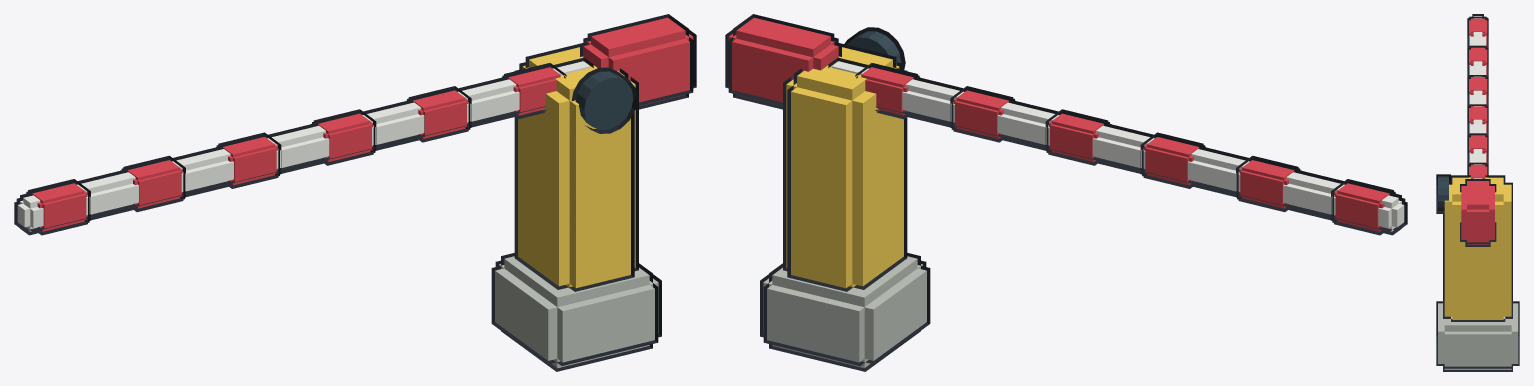
The model's file is CrossingGate_Right.fbx.
The picture shows the model from 3 angles, left to right: view 1: azimuth 30°, elevation 25°; view 2: azimuth 150°, elevation 25°; view 3: azimuth 270°, elevation 25°; orthographic projection. The views are drawn at different scales.
Parts seen in each view (by area): view 1: CrossingGate_Right_MotorBase, GateArm_Right_Visual, NPR_Outline_GateArm_Right_Visual, NPR_Outline_CrossingGate_Right_MotorBase; view 2: CrossingGate_Right_MotorBase, GateArm_Right_Visual, NPR_Outline_GateArm_Right_Visual, NPR_Outline_CrossingGate_Right_MotorBase; view 3: CrossingGate_Right_MotorBase, GateArm_Right_Visual, NPR_Outline_CrossingGate_Right_MotorBase, NPR_Outline_GateArm_Right_Visual.
Part boxes in pixels (x1,y1,x2,y2): CrossingGate_Right_MotorBase: (495,47,658,368); GateArm_Right_Visual: (17,17,693,231); NPR_Outline_GateArm_Right_Visual: (14,14,696,235); NPR_Outline_CrossingGate_Right_MotorBase: (491,43,661,371); CrossingGate_Right_MotorBase: (763,31,926,368); GateArm_Right_Visual: (728,17,1404,231); NPR_Outline_GateArm_Right_Visual: (725,14,1407,235); NPR_Outline_CrossingGate_Right_MotorBase: (760,27,930,371); CrossingGate_Right_MotorBase: (1438,176,1518,369); GateArm_Right_Visual: (1461,16,1494,244); NPR_Outline_CrossingGate_Right_MotorBase: (1436,174,1519,371); NPR_Outline_GateArm_Right_Visual: (1460,14,1496,246).
Size of the model in its own units: 217 by 91.39 by 37.49.
